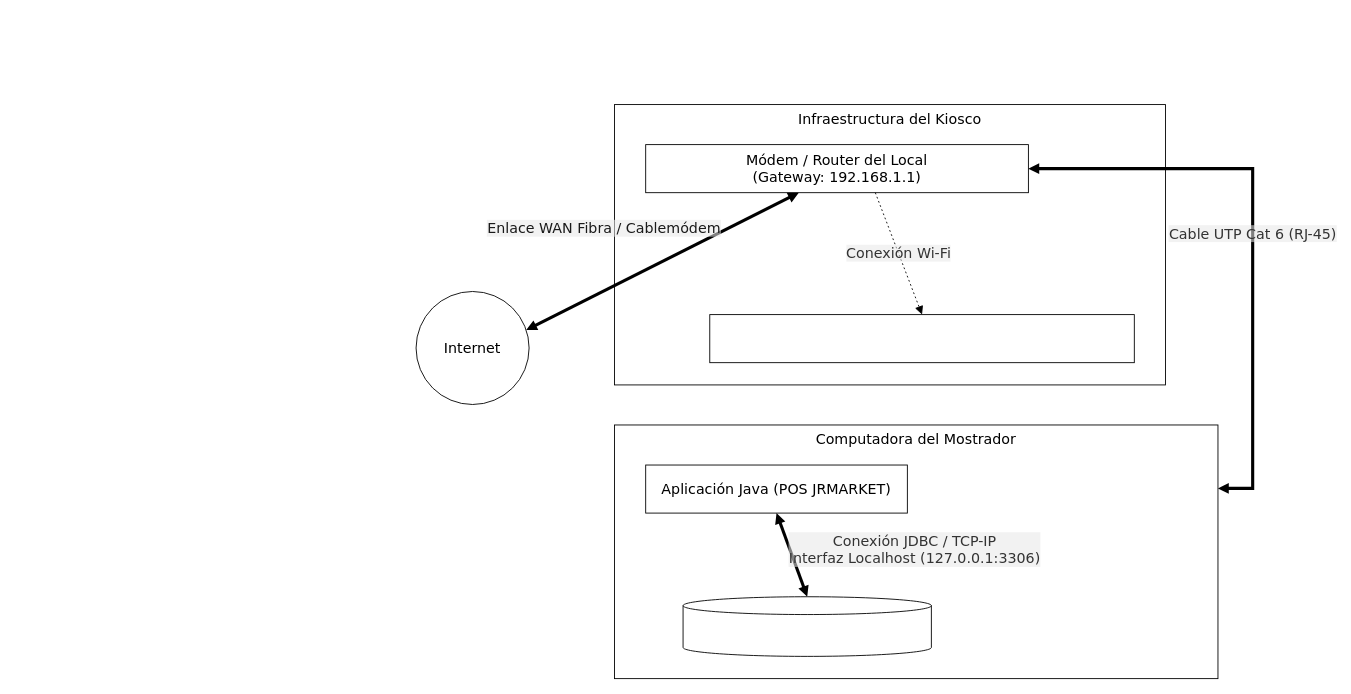
This 1351x694 diagram has some shape labels left out. Each missing label, with the centre of its shape:
"MySQL Server (Base de Datos Local)" goes at point 806,626.
"Teléfono Móvil del Socio (Verificación App Mercado Pago)" goes at point 921,338.
